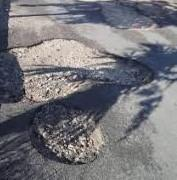pothole: (2, 37, 155, 103), (25, 103, 107, 165)
